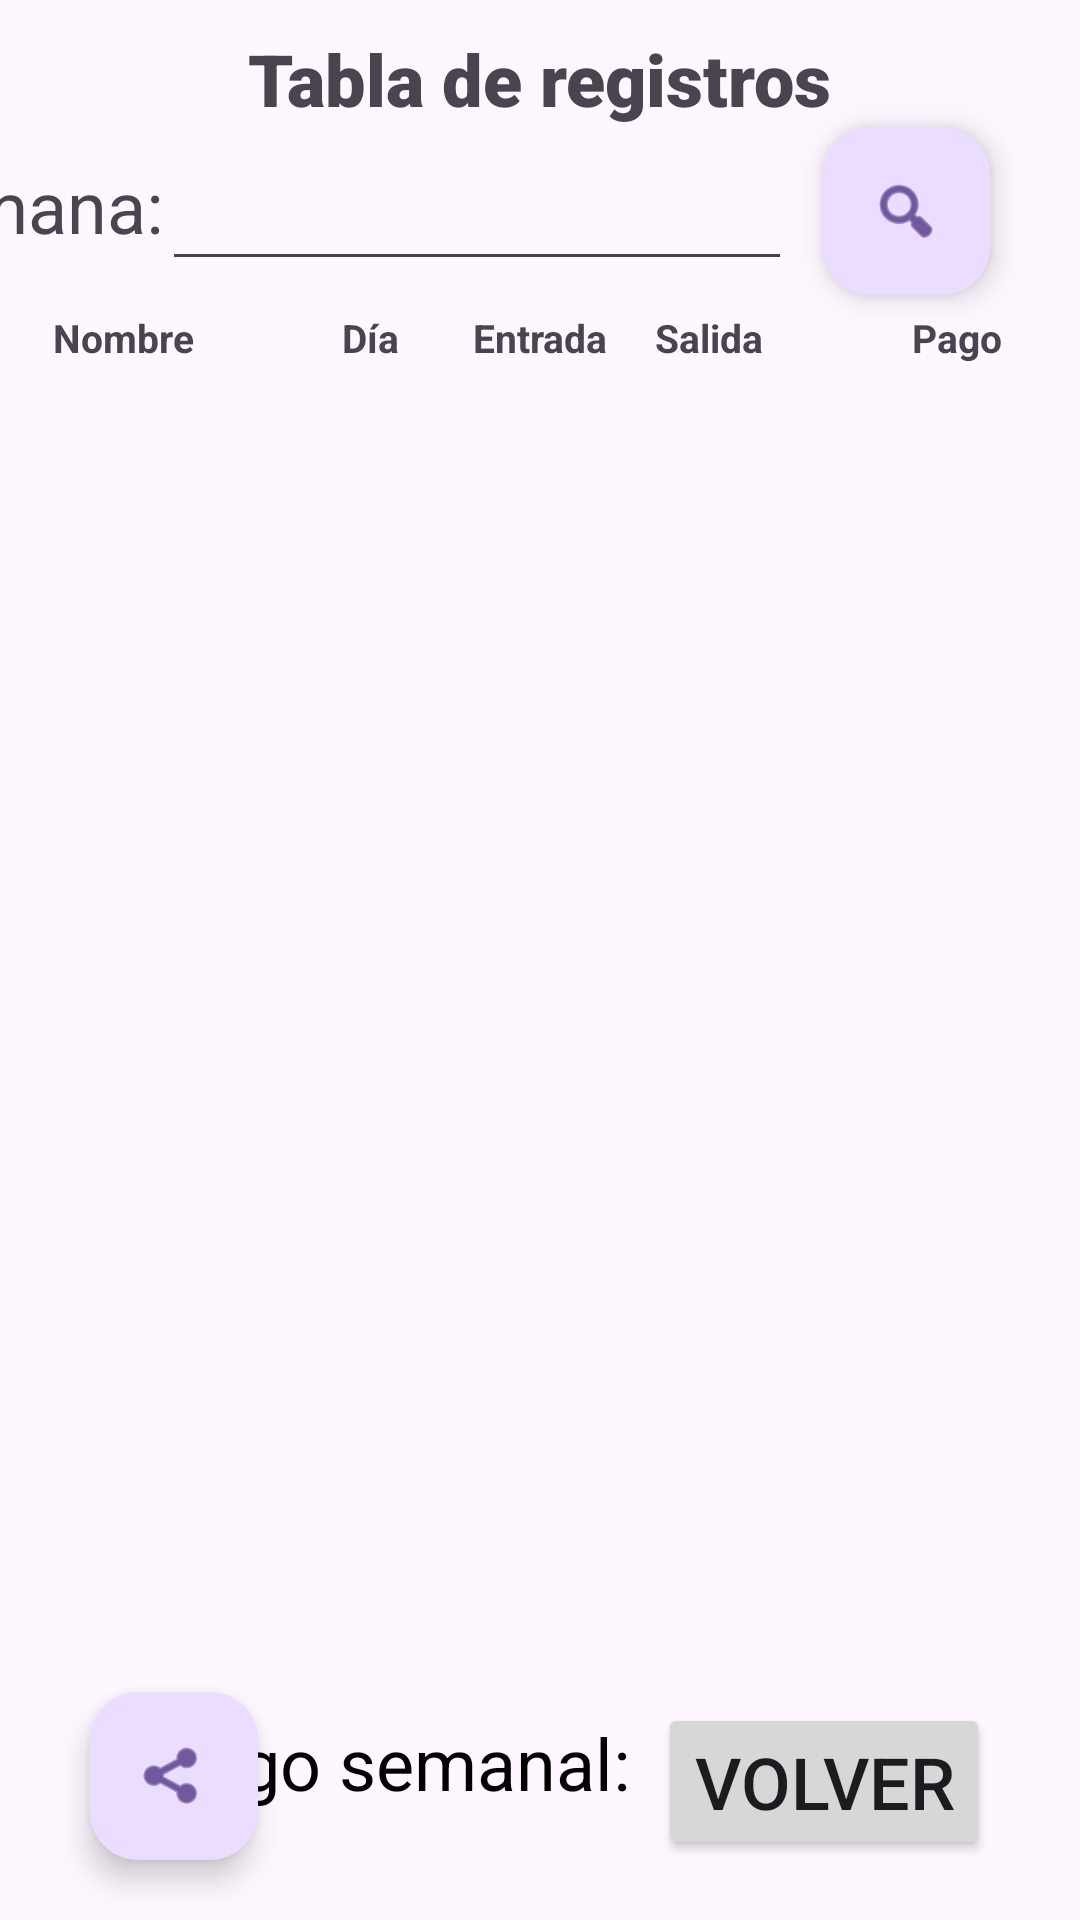

Screen size 1080px×1920px. Icon name, then its box in pixels as [x1=x1, y1=y1, x2=x2, y2=y2]:
search: [x1=822, y1=127, x2=990, y2=295]
share: [x1=90, y1=1692, x2=258, y2=1860]
